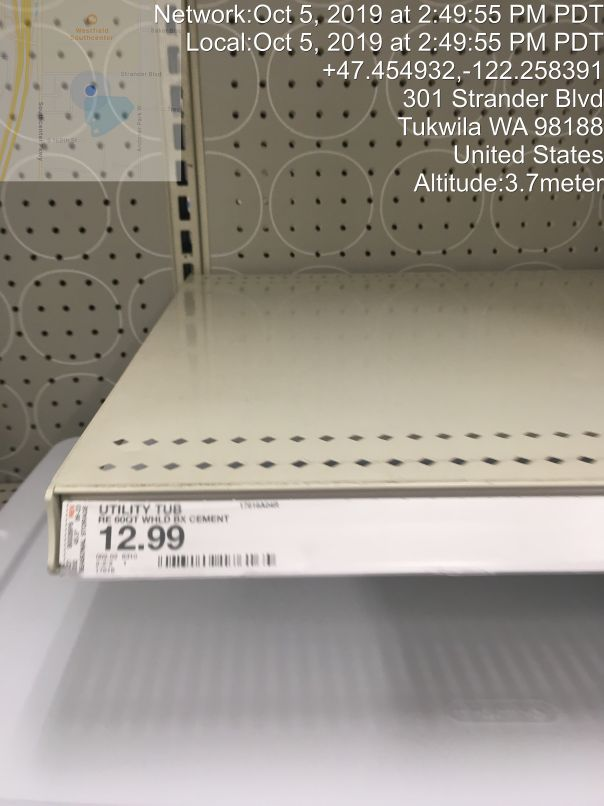Label: (71, 494, 285, 582)
Location: (395, 84, 604, 172)
Time: (151, 2, 604, 57)
Void: (155, 84, 572, 439)
